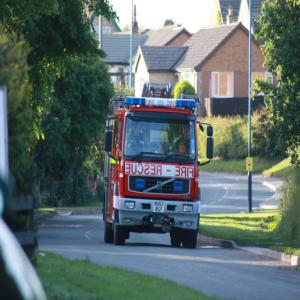Vehicle-registration-plate: (154, 201, 165, 214)
